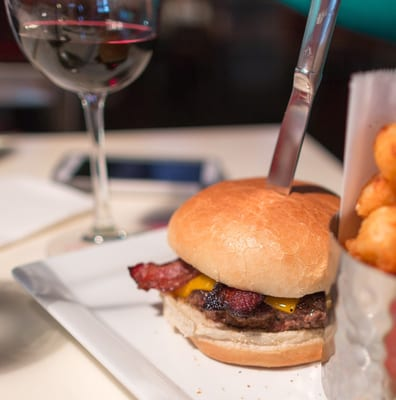soup: (129, 178, 345, 368)
